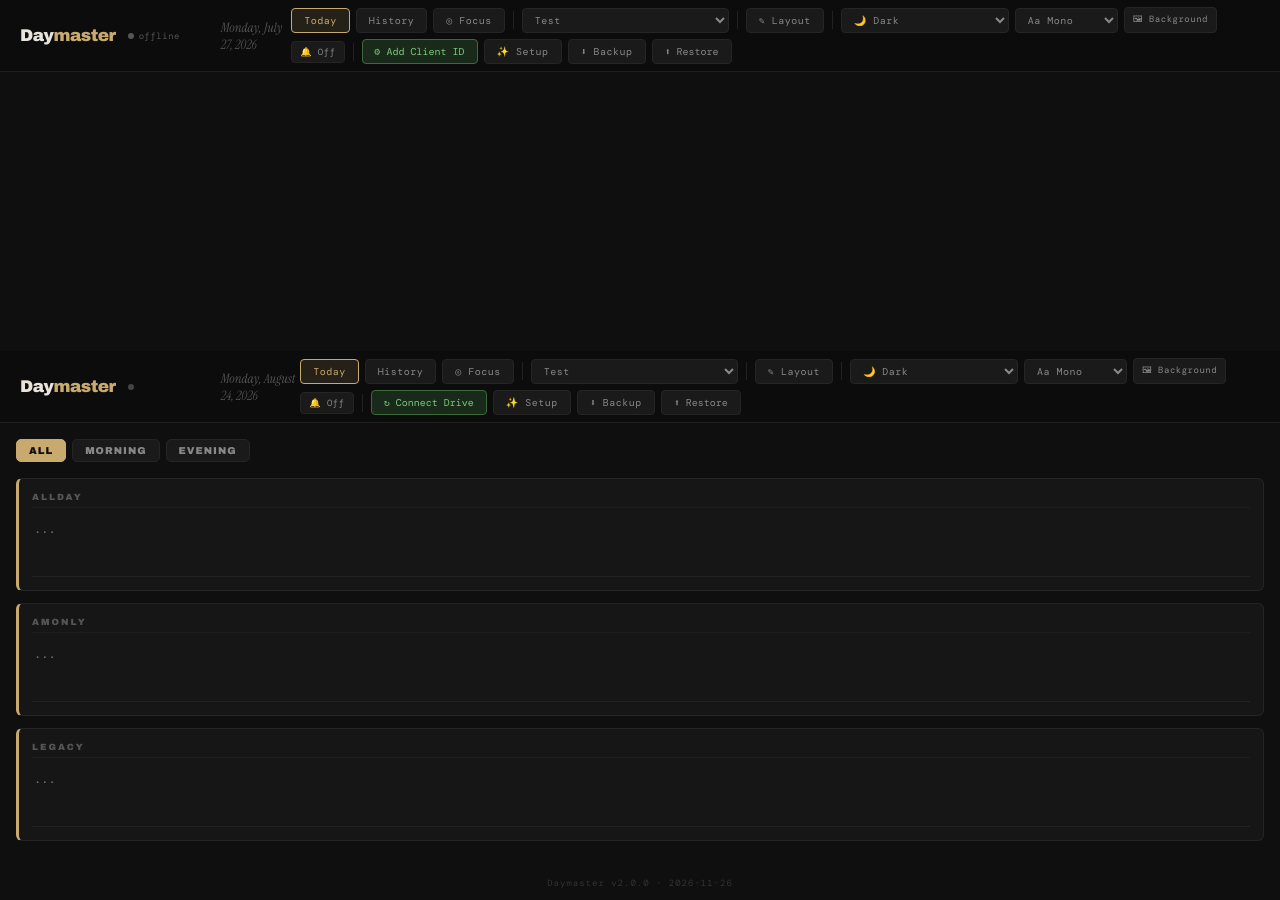
Test: App — multi-tab membership (#91) integration › renders a tile under every tab it belongs to, and hides it elsewhere
This screenshot has width=1280, height=900.
(page scrolled)
Click the button "Morning".
click(116, 450)  # box [72,439,160,462]
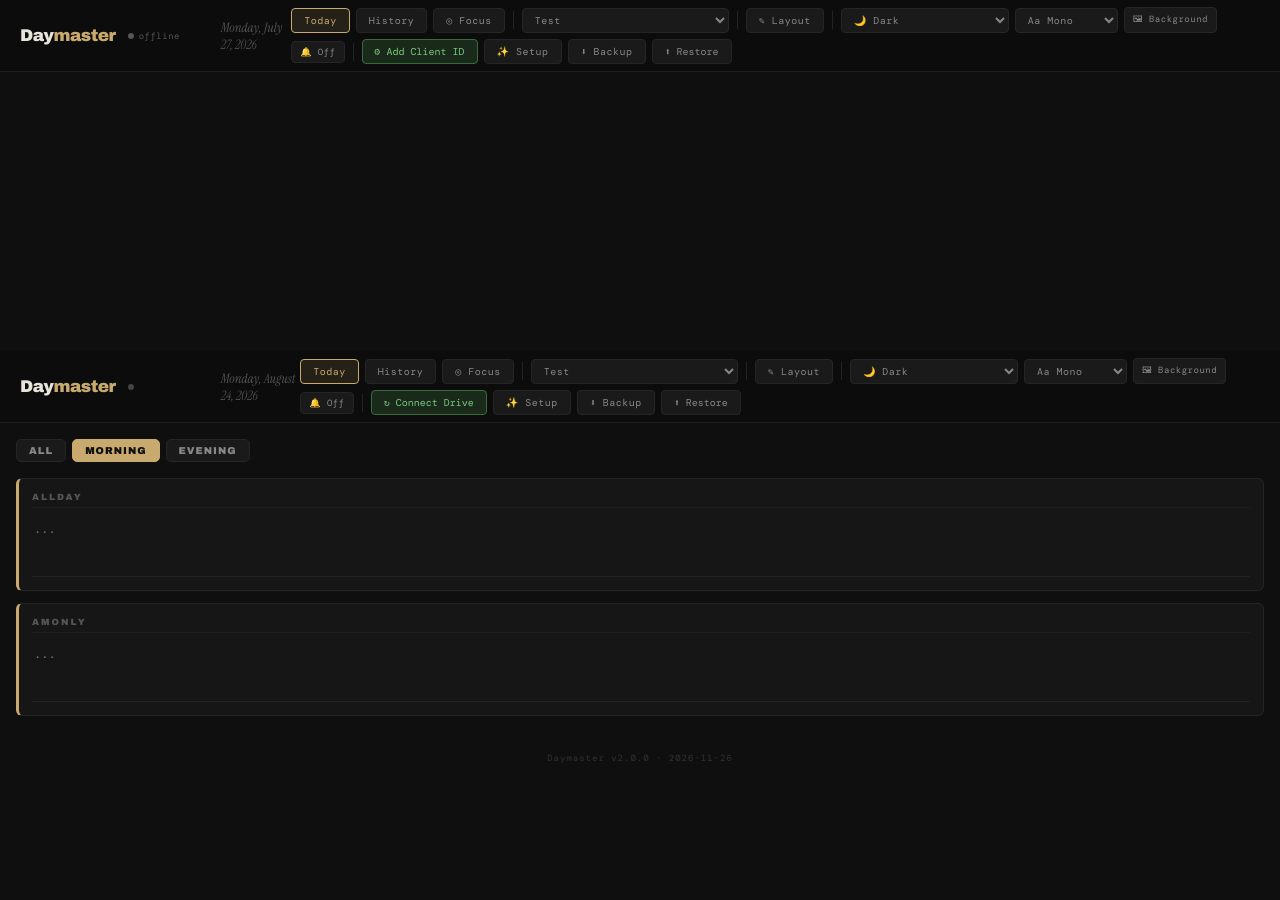
Expected: the text "ALLDAY" is shown, [32,492,1250,508]
Expected: the text "LEGACY" is gone
Click the button "Evening".
click(208, 450)  # box [166,439,250,462]
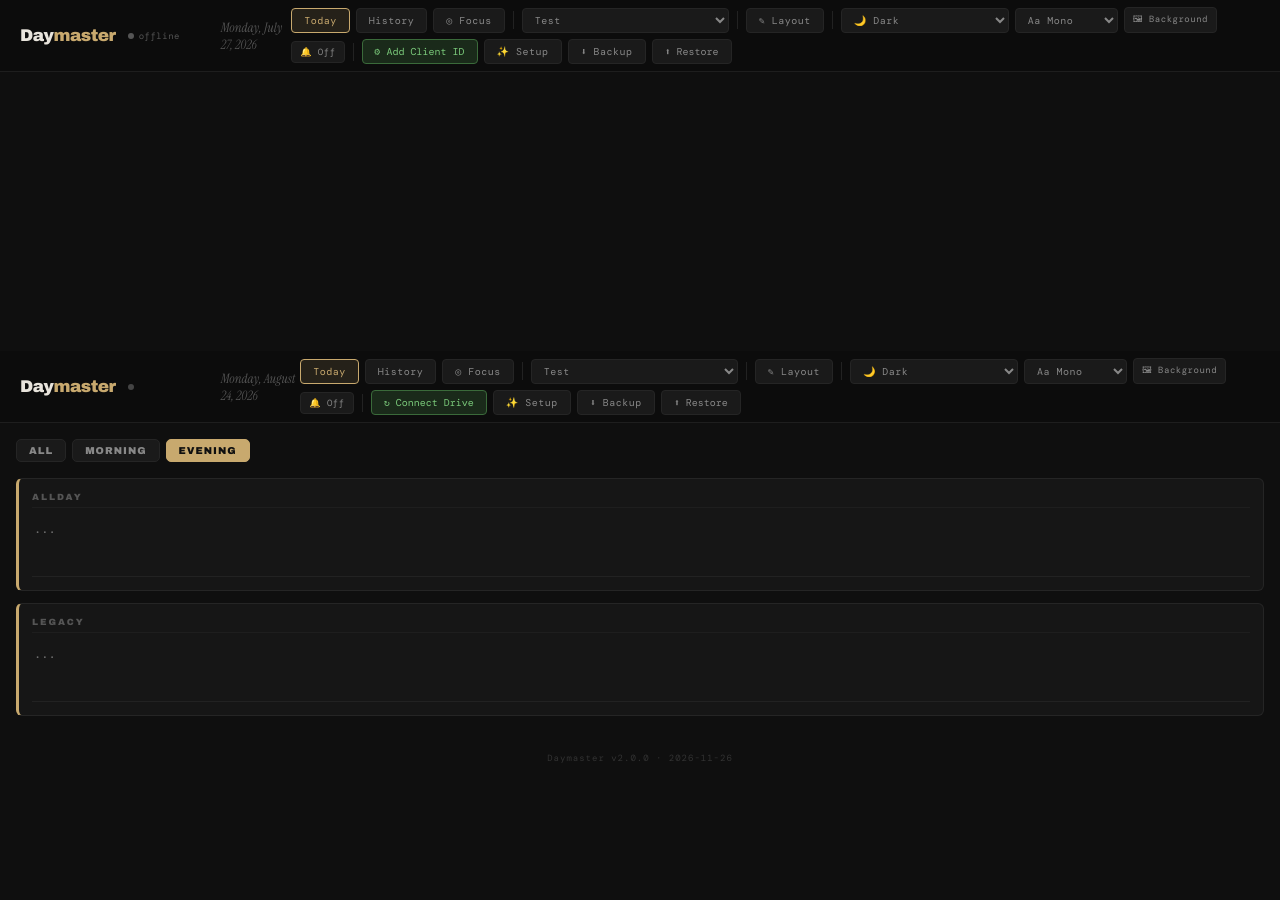
Expected: the text "ALLDAY" is shown, [32,492,1250,508]
Expected: the text "AMONLY" is gone
Expected: the text "LEGACY" is shown, [32,617,1250,633]
